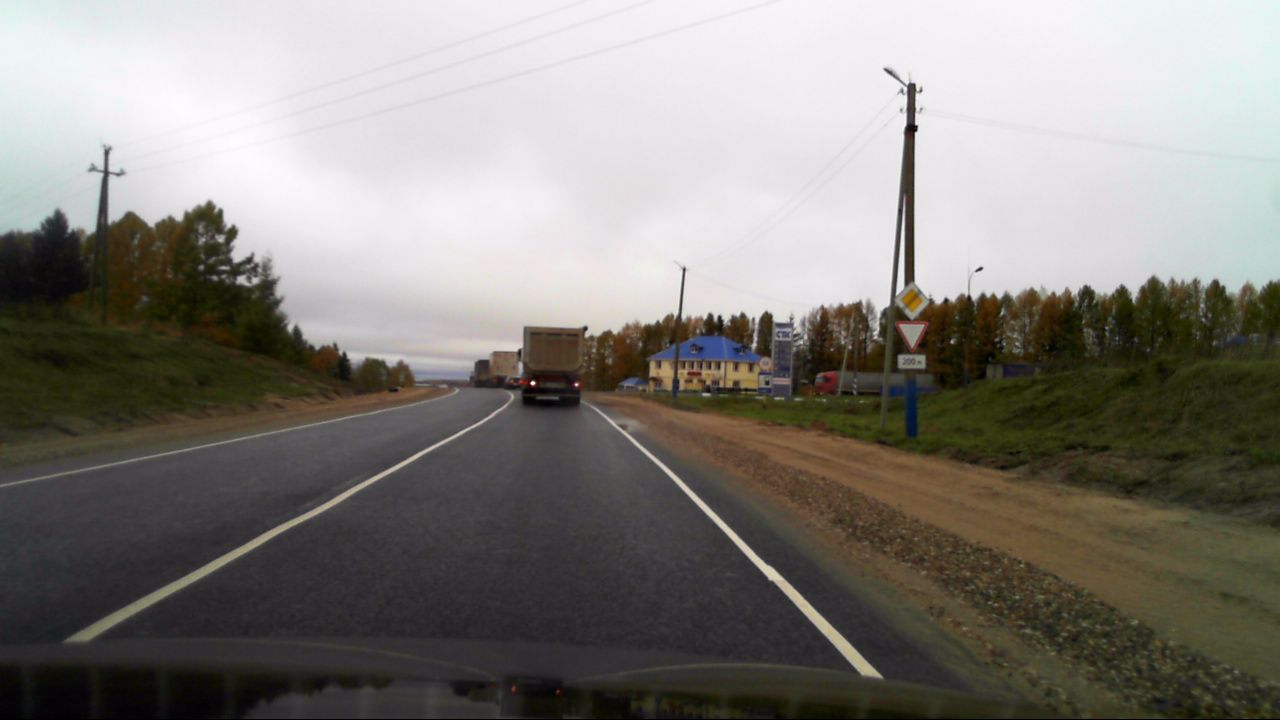main road: (892, 283, 931, 321)
